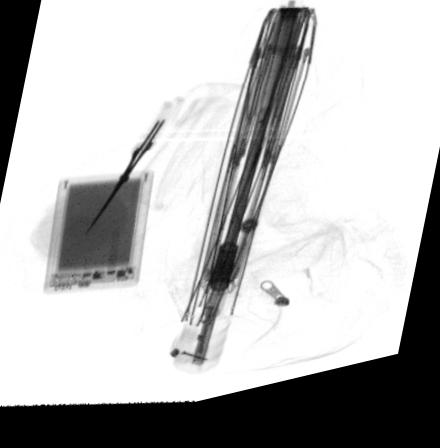Powerbank: (40, 177, 156, 295)
Scissors: (78, 104, 187, 245)
